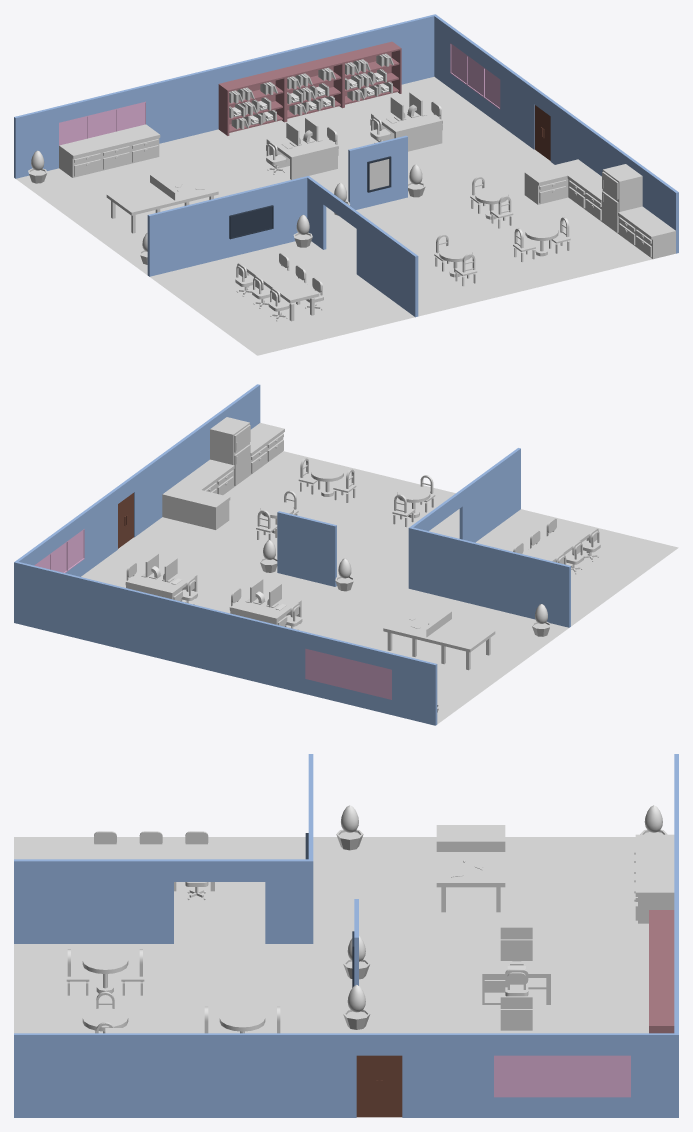
File: Catpid Level Assets.fbx
The picture shows the model from 3 angles, top to bottom: view 1: azimuth 30°, elevation 25°; view 2: azimuth 150°, elevation 25°; view 3: azimuth 270°, elevation 25°; orthographic projection. The views are drawn at different scales.
Parts seen in each view (by area): view 1: Plane, Table.Tennis|Table.Tennis.001|Dupli|, Bookshelf.002|Shelf.001|Dupli|, Refrigerator.002|Refrigerator|Dupli|, Wall Section.020|Wall Section.001|Dupli|, Wall Section.008|Wall Section.001|Dupli|, Wall Section.028|Wall Section.001|Dupli|, Wall.Doorframe.Large.001|Wall.Doorframe.Large|Dupli|, Wall Section.029|Wall Section.001|Dupli|, Table.Conference.001|Table.Conference|Dupli|, Bookshelf.001|Shelf.001|Dupli|, Bookshelf|Shelf.001|Dupli| (+56 smaller); view 2: Plane, Table.Tennis|Table.Tennis.001|Dupli|, Refrigerator.002|Refrigerator|Dupli|, Wall Section.004|Wall Section.001|Dupli|, Wall Section.006|Wall Section.001|Dupli|, Wall Section.002|Wall Section.001|Dupli|, Wall Section.029|Wall Section.001|Dupli|, Wall Section|Wall Section.001|Dupli|, Wall Section.003|Wall Section.001|Dupli|, Wall Section.007|Wall Section.001|Dupli|, Wall Section.028|Wall Section.001|Dupli|, Wall Section.026|Wall Section.001|Dupli| (+41 smaller); view 3: Plane, Wall.Doorframe.Large.001|Wall.Doorframe.Large|Dupli|, Wall.Doorframe.002|Wall.Doorframe|Dupli|, Table.Tennis|Table.Tennis.001|Dupli|, Wall Section.009|Wall Section.001|Dupli|, Wall Section.011|Wall Section.001|Dupli|, Wall Section.013|Wall Section.001|Dupli|, Wall Section.014|Wall Section.001|Dupli|, Wall Section.005|Wall Section.001|Dupli|, Wall Section.010|Wall Section.001|Dupli|, Wall Section.012|Wall Section.001|Dupli|, Wall Section.015|Wall Section.001|Dupli| (+33 smaller).
Part boxes in pixels (x1,y1,x2,y2): Plane: (16, 76, 652, 355); Table.Tennis|Table.Tennis.001|Dupli|: (106, 173, 218, 233); Bookshelf.002|Shelf.001|Dupli|: (218, 70, 285, 135); Refrigerator.002|Refrigerator|Dupli|: (602, 164, 642, 233); Wall Section.020|Wall Section.001|Dupli|: (147, 208, 178, 276); Wall Section.008|Wall Section.001|Dupli|: (177, 201, 207, 269); Wall Section.028|Wall Section.001|Dupli|: (188, 67, 218, 136); Wall.Doorframe.Large.001|Wall.Doorframe.Large|Dupli|: (315, 182, 367, 279); Wall Section.029|Wall Section.001|Dupli|: (159, 74, 189, 143); Table.Conference.001|Table.Conference|Dupli|: (241, 257, 319, 321); Bookshelf.001|Shelf.001|Dupli|: (277, 55, 343, 121); Bookshelf|Shelf.001|Dupli|: (335, 41, 401, 107); Plane: (81, 451, 678, 724); Table.Tennis|Table.Tennis.001|Dupli|: (383, 610, 495, 670); Refrigerator.002|Refrigerator|Dupli|: (210, 417, 250, 486); Wall Section.004|Wall Section.001|Dupli|: (406, 657, 437, 725); Wall Section.006|Wall Section.001|Dupli|: (306, 518, 336, 586); Wall Section.002|Wall Section.001|Dupli|: (453, 537, 483, 606); Wall Section.029|Wall Section.001|Dupli|: (261, 621, 291, 690); Wall Section|Wall Section.001|Dupli|: (482, 545, 512, 613); Wall Section.003|Wall Section.001|Dupli|: (424, 530, 454, 599); Wall Section.007|Wall Section.001|Dupli|: (277, 511, 307, 579); Wall Section.028|Wall Section.001|Dupli|: (232, 614, 262, 683); Wall Section.026|Wall Section.001|Dupli|: (174, 600, 204, 668); Plane: (14, 837, 648, 1033); Wall.Doorframe.Large.001|Wall.Doorframe.Large|Dupli|: (151, 859, 288, 943); Wall.Doorframe.002|Wall.Doorframe|Dupli|: (334, 1033, 425, 1117); Table.Tennis|Table.Tennis.001|Dupli|: (436, 825, 505, 912); Wall Section.009|Wall Section.001|Dupli|: (59, 859, 105, 943); Wall Section.011|Wall Section.001|Dupli|: (59, 1033, 105, 1117); Wall Section.013|Wall Section.001|Dupli|: (242, 1033, 288, 1117); Wall Section.014|Wall Section.001|Dupli|: (196, 1033, 242, 1117); Wall Section.005|Wall Section.001|Dupli|: (105, 859, 150, 943); Wall Section.010|Wall Section.001|Dupli|: (105, 1033, 150, 1117); Wall Section.012|Wall Section.001|Dupli|: (14, 1033, 59, 1117); Wall Section.015|Wall Section.001|Dupli|: (151, 1033, 196, 1117).
Bounding box in the file's own units: 2910 × 400 × 2910.
